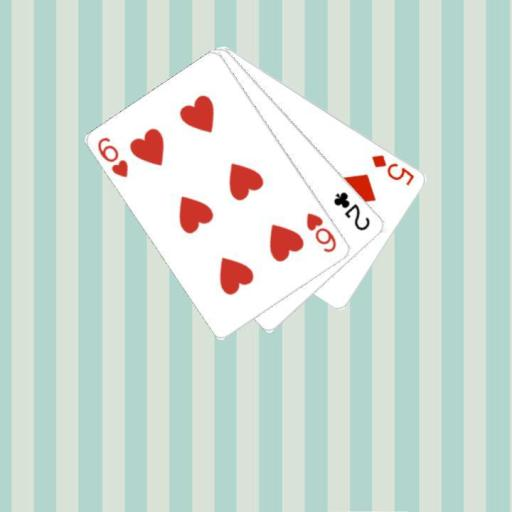2C: (331, 189, 372, 233)
5D: (368, 151, 417, 187)
6H: (303, 210, 338, 255), (95, 134, 130, 179)
